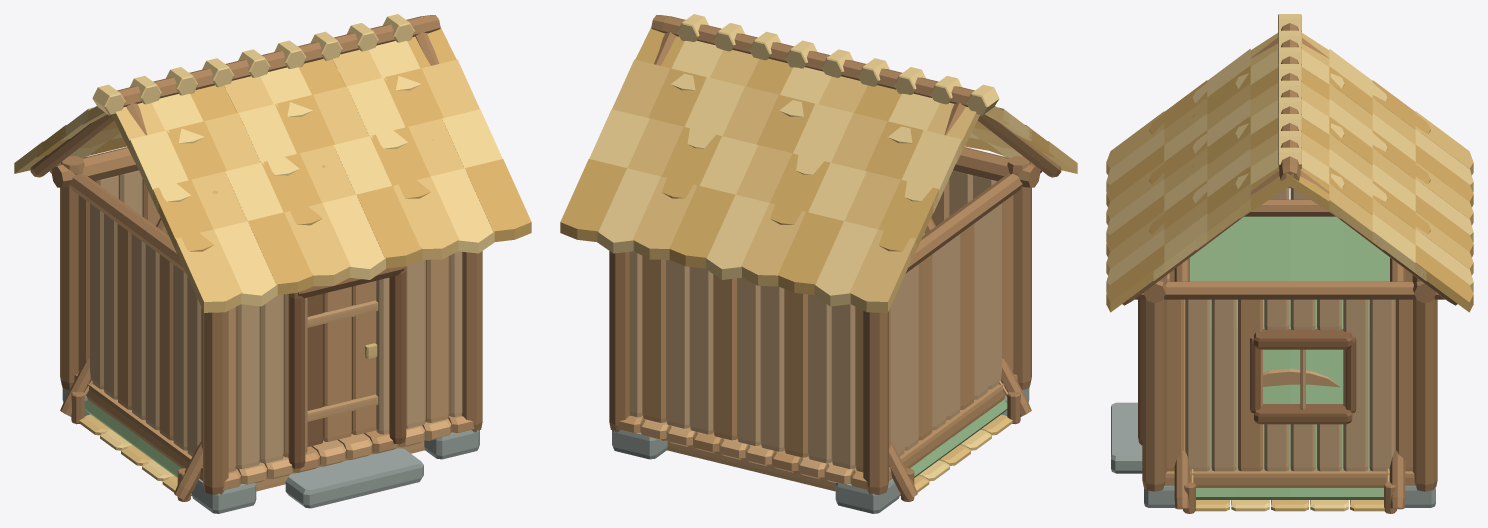
Rendered from construction.glb.
The picture shows the model from 3 angles, left to right: view 1: azimuth 30°, elevation 25°; view 2: azimuth 150°, elevation 25°; view 3: azimuth 270°, elevation 25°; orthographic projection. The views are drawn at different scales.
Parts seen in each view (by area): view 1: PRP_BLD_Export_building_hut_complete_10, PRP_BLD_Export_building_hut_complete_0, PRP_BLD_Export_building_hut_complete_12, PRP_BLD_Export_building_hut_complete_11, PRP_BLD_Export_building_hut_complete_6, PRP_BLD_Export_building_hut_complete_1, PRP_BLD_Export_building_hut_complete_2, PRP_BLD_Export_building_hut_complete_9, PRP_BLD_Export_building_hut_complete_3, PRP_BLD_Export_building_hut_complete_7, PRP_BLD_Export_building_hut_complete_8, PRP_BLD_Export_building_hut_complete_5 (+4 smaller); view 2: PRP_BLD_Export_building_hut_complete_0, PRP_BLD_Export_building_hut_complete_10, PRP_BLD_Export_building_hut_complete_12, PRP_BLD_Export_building_hut_complete_11, PRP_BLD_Export_building_hut_complete_6, PRP_BLD_Export_building_hut_complete_1, PRP_BLD_Export_building_hut_complete_7, PRP_BLD_Export_building_hut_complete_8, PRP_BLD_Export_building_hut_complete_9, PRP_BLD_Export_building_garden_complete_1, PRP_BLD_Export_building_tent_complete_5, PRP_BLD_Export_building_tent_complete_0 (+2 smaller); view 3: PRP_BLD_Export_building_hut_complete_10, PRP_BLD_Export_building_hut_complete_0, PRP_BLD_Export_building_hut_complete_12, PRP_BLD_Export_building_tent_complete_0, PRP_BLD_Export_building_hut_complete_11, PRP_BLD_Export_building_hut_complete_6, PRP_BLD_Export_building_hut_complete_1, PRP_BLD_Export_building_tent_complete_5, PRP_BLD_Export_building_hut_complete_5, PRP_BLD_Export_building_hut_complete_7, PRP_BLD_Export_building_hut_complete_9, PRP_BLD_Export_building_hut_complete_3 (+4 smaller).
Boxes of the visible parts, x1,y1,x2,y2 form: PRP_BLD_Export_building_hut_complete_10: [60, 14, 502, 306]; PRP_BLD_Export_building_hut_complete_0: [90, 170, 462, 469]; PRP_BLD_Export_building_hut_complete_12: [37, 18, 531, 294]; PRP_BLD_Export_building_hut_complete_11: [14, 50, 479, 312]; PRP_BLD_Export_building_hut_complete_6: [30, 15, 482, 494]; PRP_BLD_Export_building_hut_complete_1: [78, 179, 376, 448]; PRP_BLD_Export_building_hut_complete_2: [228, 256, 449, 472]; PRP_BLD_Export_building_hut_complete_9: [62, 388, 479, 513]; PRP_BLD_Export_building_hut_complete_3: [288, 266, 406, 468]; PRP_BLD_Export_building_hut_complete_7: [74, 374, 474, 490]; PRP_BLD_Export_building_hut_complete_8: [236, 419, 451, 484]; PRP_BLD_Export_building_hut_complete_5: [307, 294, 323, 446]; PRP_BLD_Export_building_hut_complete_0: [629, 170, 1001, 469]; PRP_BLD_Export_building_hut_complete_10: [589, 14, 1031, 306]; PRP_BLD_Export_building_hut_complete_12: [560, 18, 1054, 294]; PRP_BLD_Export_building_hut_complete_11: [612, 50, 1077, 312]; PRP_BLD_Export_building_hut_complete_6: [609, 15, 1061, 494]; PRP_BLD_Export_building_hut_complete_1: [642, 195, 1013, 472]; PRP_BLD_Export_building_hut_complete_7: [617, 374, 1017, 490]; PRP_BLD_Export_building_hut_complete_8: [640, 419, 855, 484]; PRP_BLD_Export_building_hut_complete_9: [612, 388, 1029, 513]; PRP_BLD_Export_building_garden_complete_1: [667, 441, 835, 491]; PRP_BLD_Export_building_tent_complete_5: [889, 217, 1031, 500]; PRP_BLD_Export_building_tent_complete_0: [910, 233, 1007, 477]; PRP_BLD_Export_building_hut_complete_10: [1106, 14, 1473, 292]; PRP_BLD_Export_building_hut_complete_0: [1185, 188, 1394, 471]; PRP_BLD_Export_building_hut_complete_12: [1106, 65, 1473, 312]; PRP_BLD_Export_building_tent_complete_0: [1190, 216, 1389, 499]; PRP_BLD_Export_building_hut_complete_11: [1106, 33, 1473, 275]; PRP_BLD_Export_building_hut_complete_6: [1122, 23, 1457, 491]; PRP_BLD_Export_building_hut_complete_1: [1167, 269, 1412, 471]; PRP_BLD_Export_building_tent_complete_5: [1174, 199, 1405, 509]; PRP_BLD_Export_building_hut_complete_5: [1254, 329, 1352, 424]; PRP_BLD_Export_building_hut_complete_7: [1164, 469, 1415, 487]; PRP_BLD_Export_building_hut_complete_9: [1111, 402, 1435, 507]; PRP_BLD_Export_building_hut_complete_3: [1138, 299, 1356, 445].
Size of the model in its own units: 3.09 by 3.43 by 3.07.
